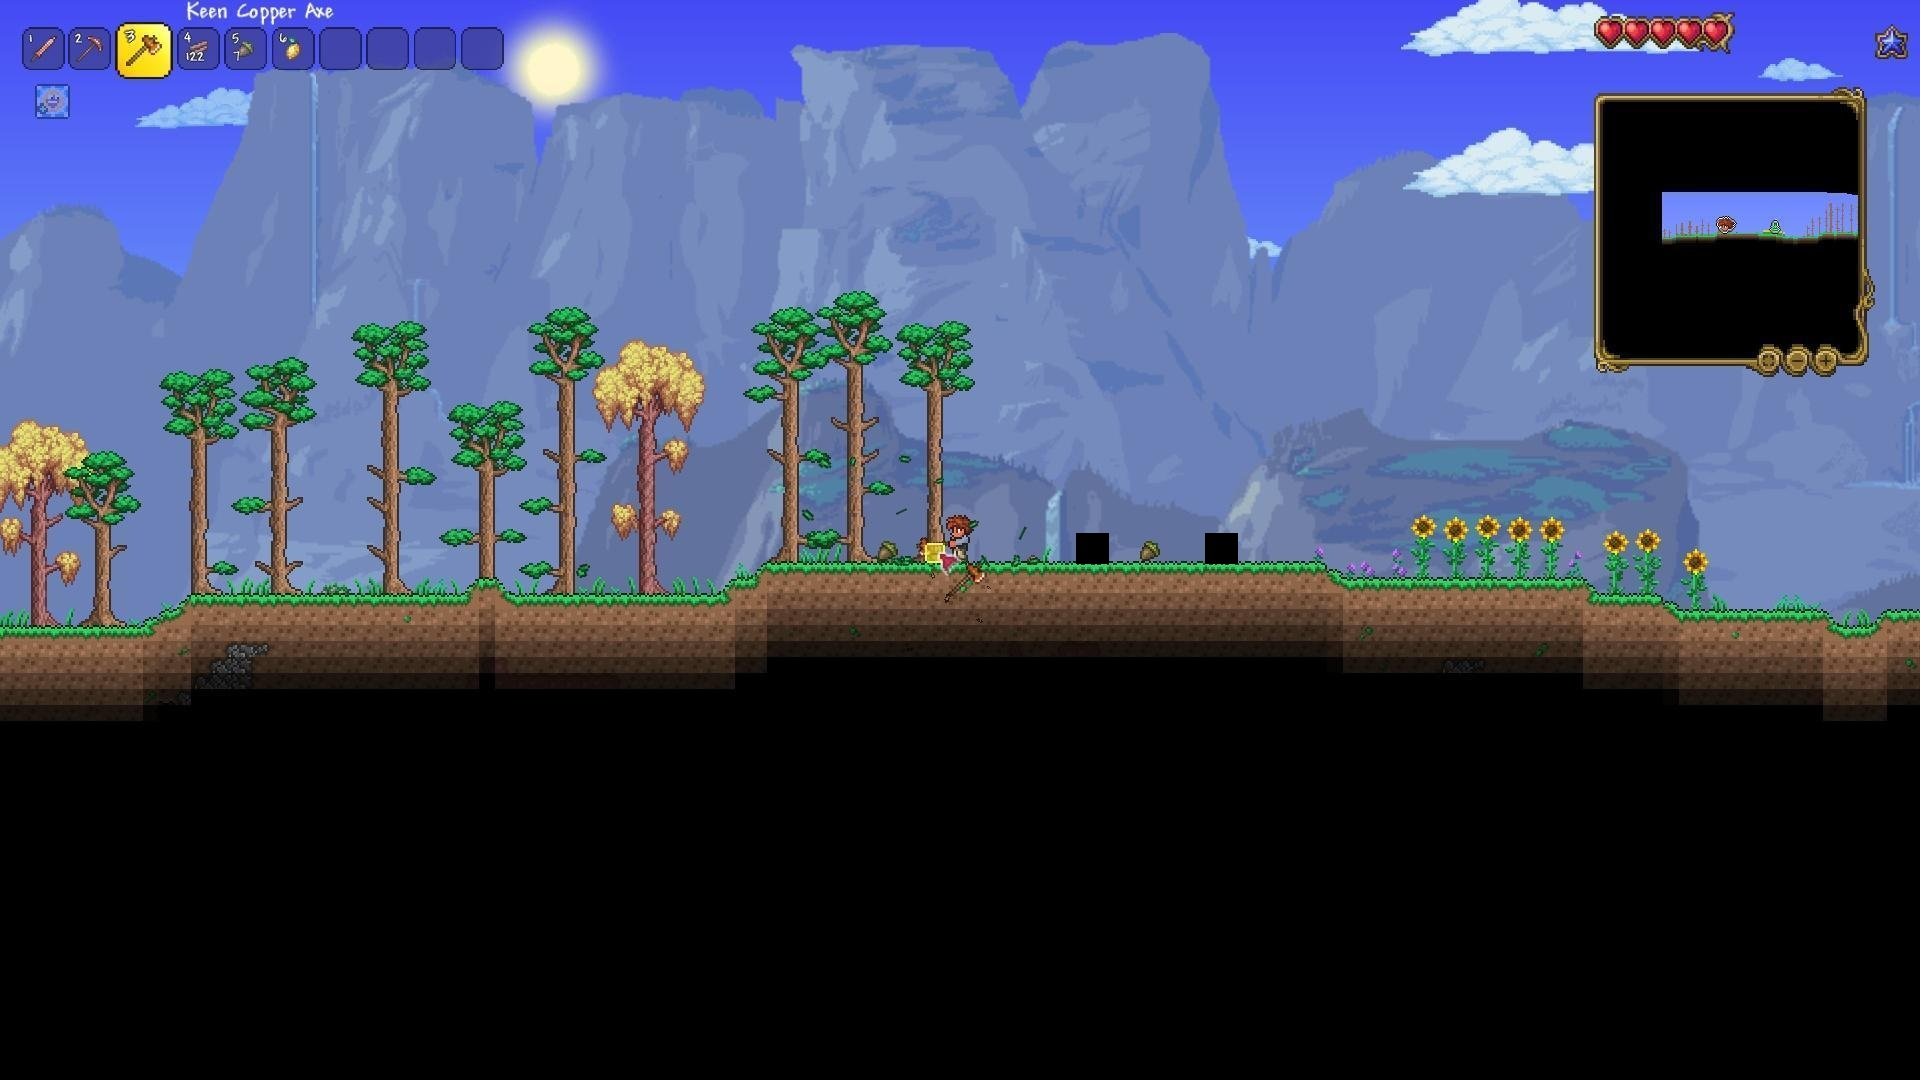wood: (183, 32, 211, 57)
